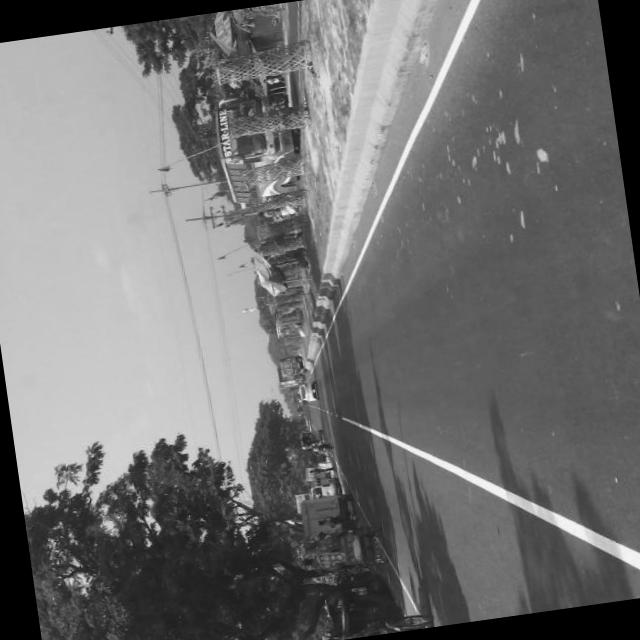bus: (208, 89, 308, 210)
car: (294, 380, 318, 405)
motorcycle: (310, 522, 388, 576), (306, 441, 336, 458)
truck: (296, 490, 357, 536), (276, 354, 306, 380), (307, 474, 338, 499)
